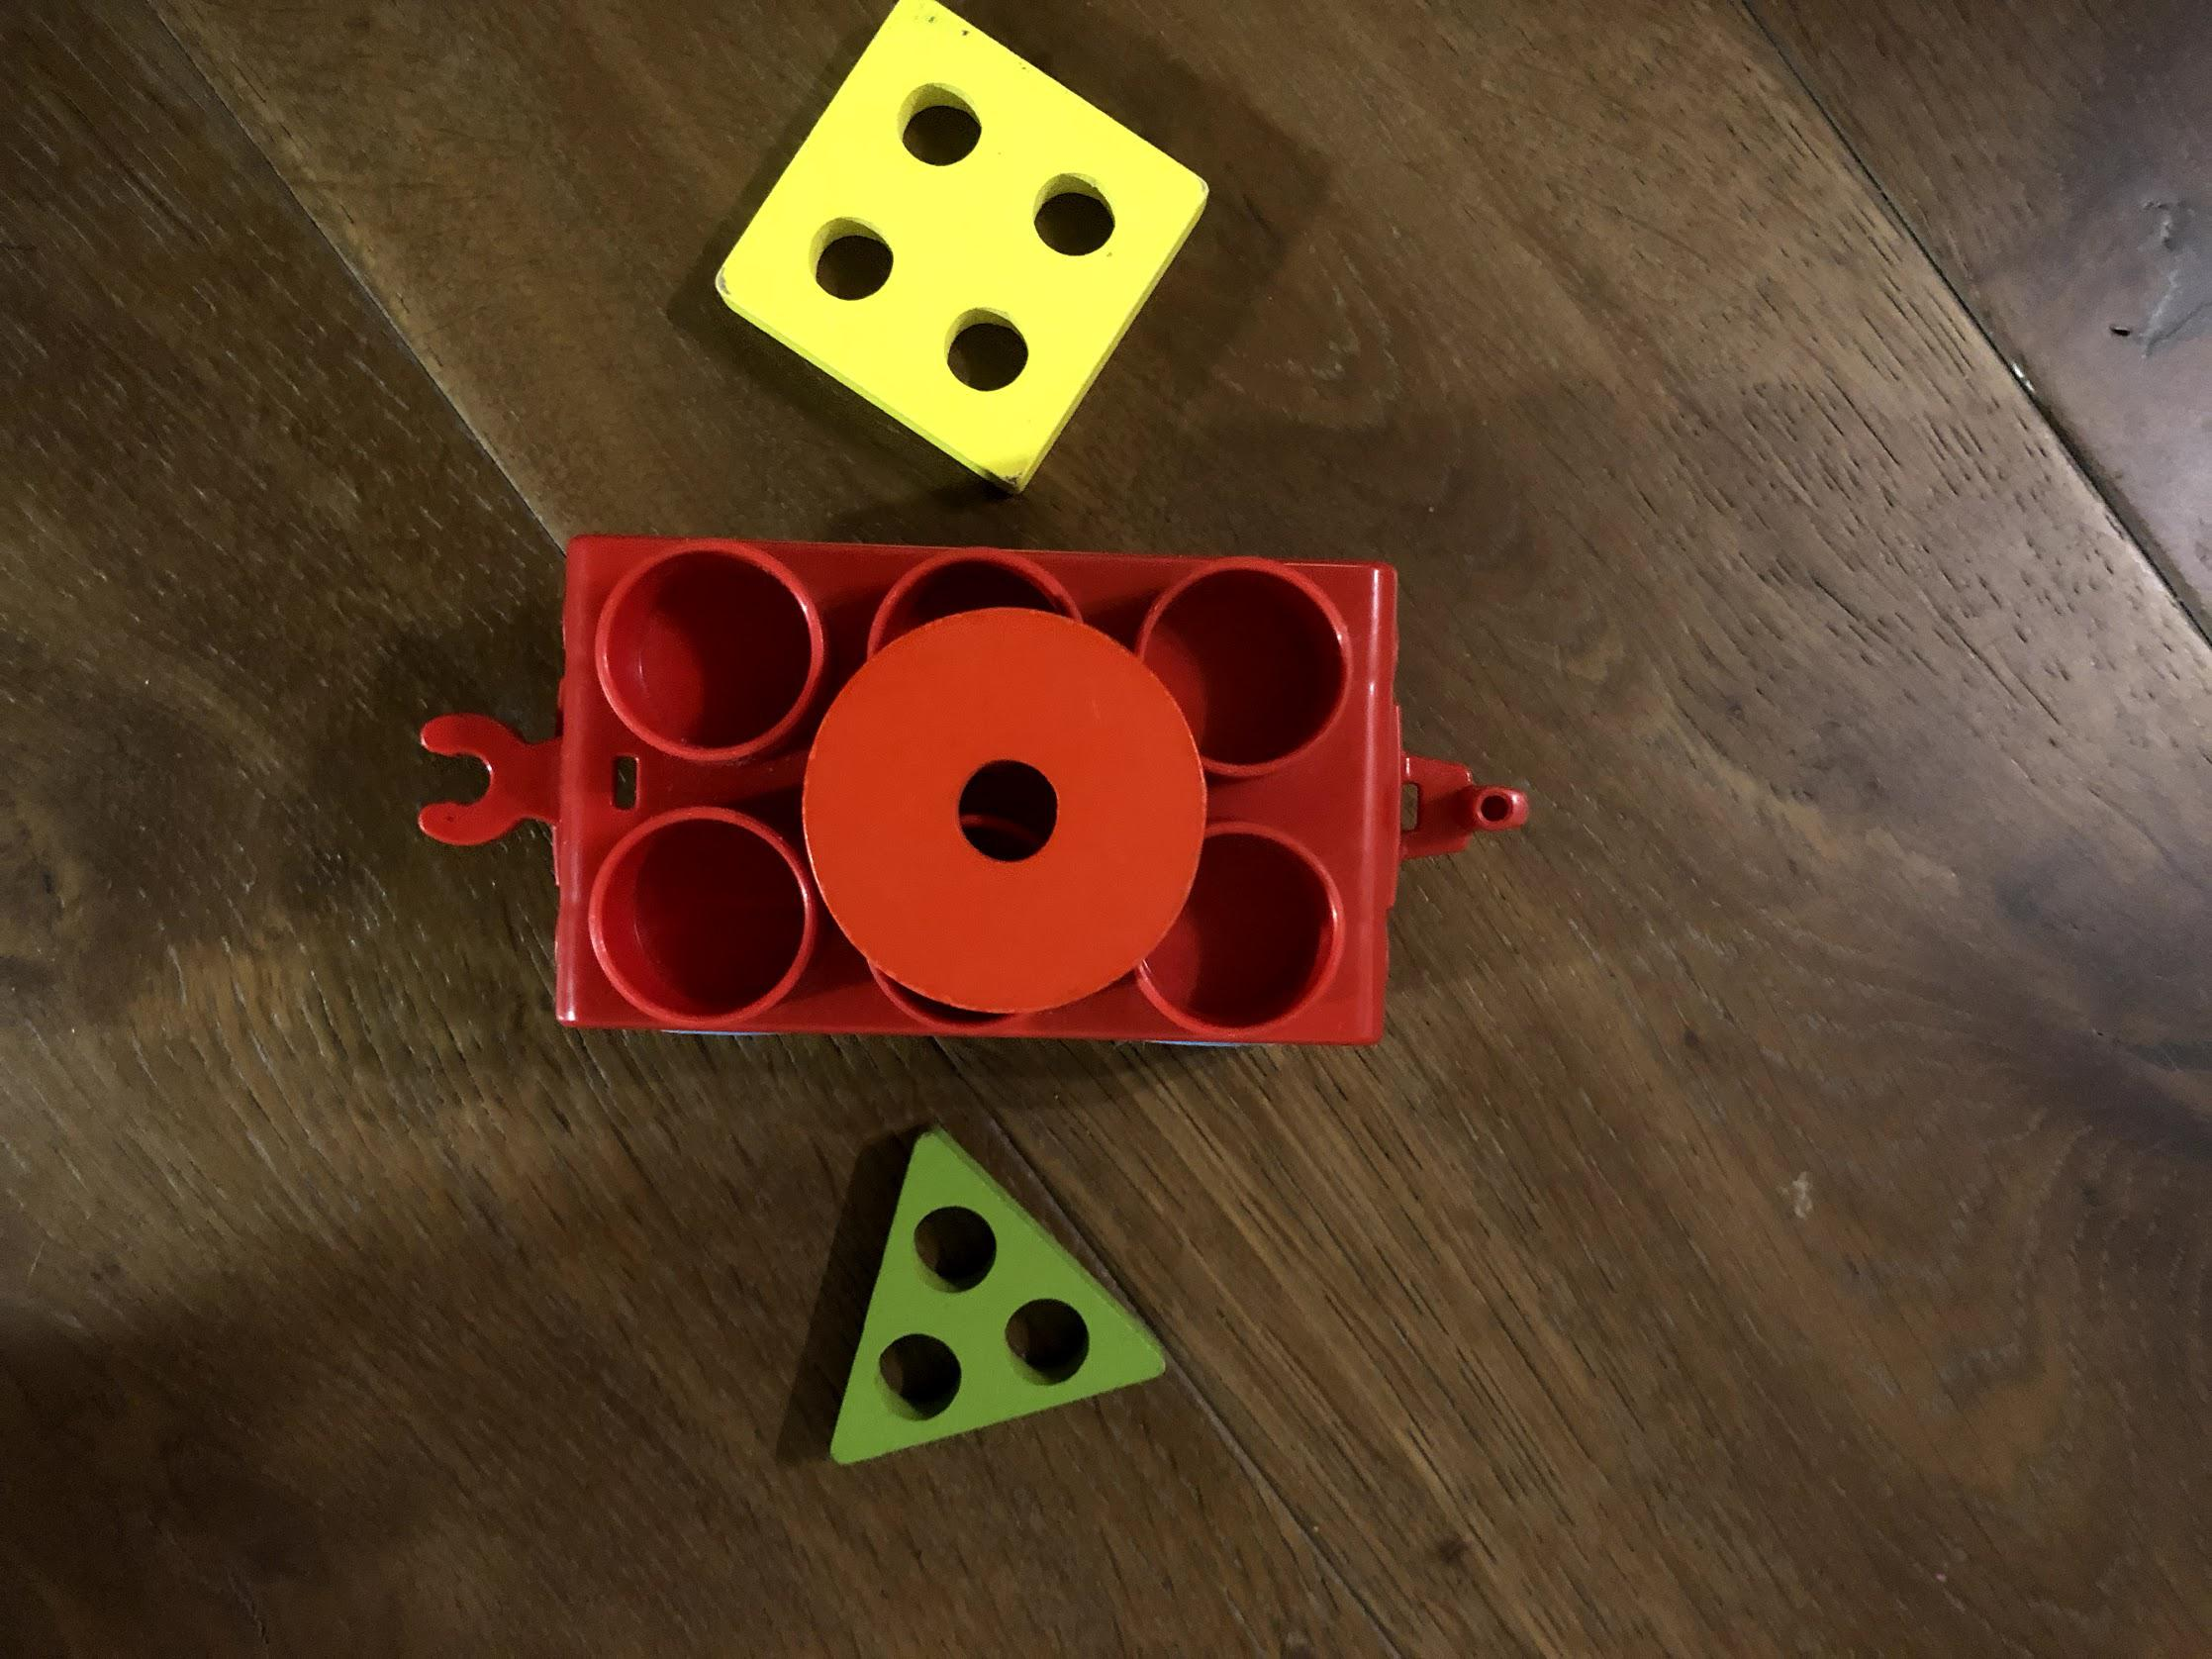Circle: (801, 603, 1207, 1012)
Square: (700, 0, 1216, 497), (826, 1131, 1169, 1462)
